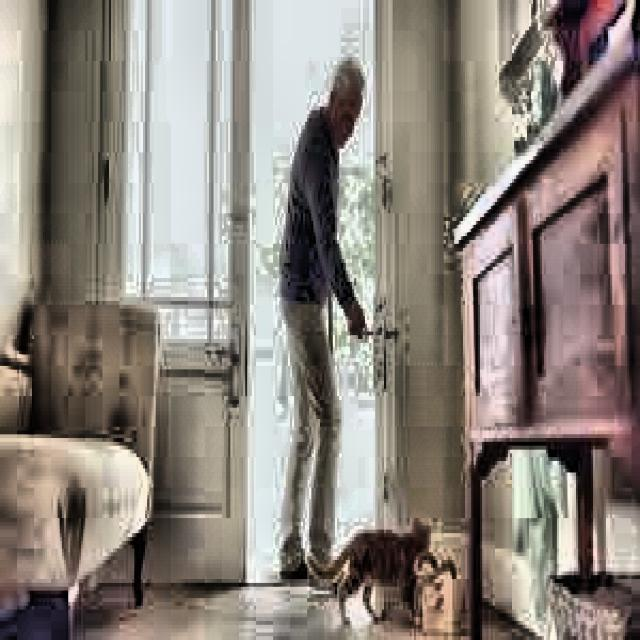Human: (262, 14, 380, 640)
